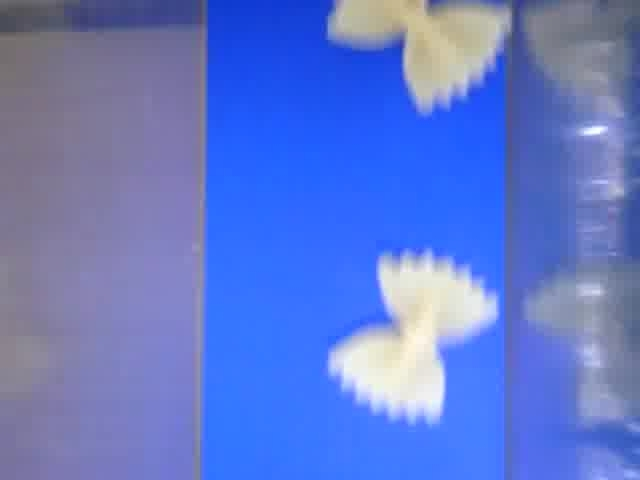farfalle: (326, 251, 502, 425), (330, 1, 511, 114)
